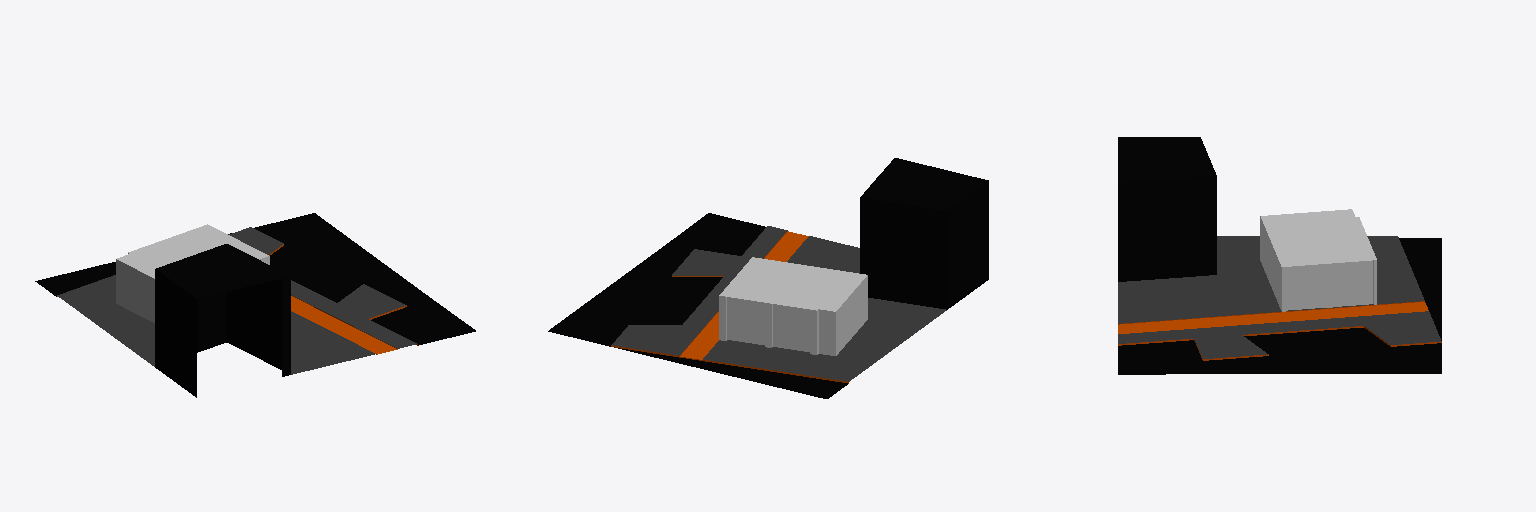
Rendered from 10_gign.obj.
3 views of the same model, side by side, from view 1: azimuth 30°, elevation 25°; view 2: azimuth 150°, elevation 25°; view 3: azimuth 270°, elevation 25° (orthographic).
Parts seen in each view (by area): view 1: 10_gign_Grid.008; view 2: 10_gign_Grid.008; view 3: 10_gign_Grid.008.
Part boxes in pixels (x1,y1,x2,y2): 10_gign_Grid.008: (35,213,475,397); 10_gign_Grid.008: (548,158,988,398); 10_gign_Grid.008: (1118,137,1441,374).
Size of the model in its own units: 16.01 by 5.5 by 16.